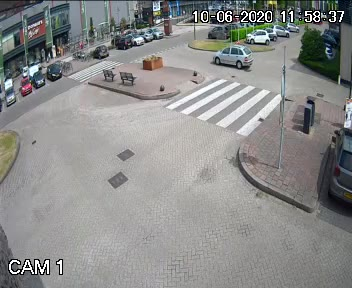car: (204, 39, 251, 76)
